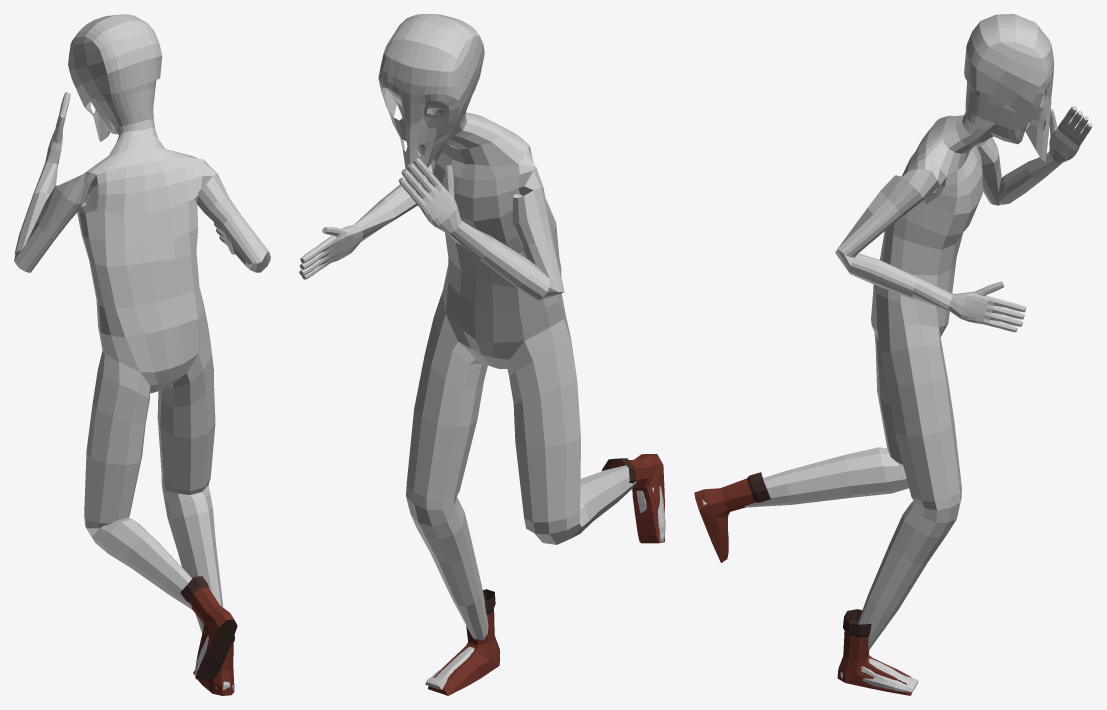
File: correr_000170.obj
3 renders of one model, left to right at view 1: azimuth 30°, elevation 25°; view 2: azimuth 150°, elevation 25°; view 3: azimuth 270°, elevation 25°, orthographic. The views are drawn at different scales.
Visible parts, largest first — view 1: Plane.002_Plane.001, Plane.004, Plane.003; view 2: Plane.002_Plane.001, Plane.004, Plane.003; view 3: Plane.002_Plane.001, Plane.004, Plane.003.
Part boxes in pixels (x1,y1,x2,y2): Plane.002_Plane.001: (14, 14, 270, 690); Plane.004: (180, 576, 237, 679); Plane.003: (193, 635, 234, 695); Plane.002_Plane.001: (299, 14, 665, 689); Plane.004: (602, 454, 664, 543); Plane.003: (428, 589, 499, 695); Plane.002_Plane.001: (702, 14, 1092, 692); Plane.004: (694, 472, 770, 562); Plane.003: (837, 609, 912, 695).
Bounding box in the file's own units: 2.41 × 6.68 × 3.71.
